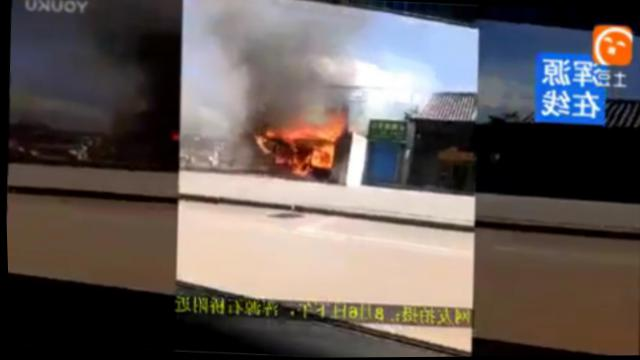fire: (270, 119, 343, 140), (312, 143, 335, 167), (291, 149, 309, 174)
